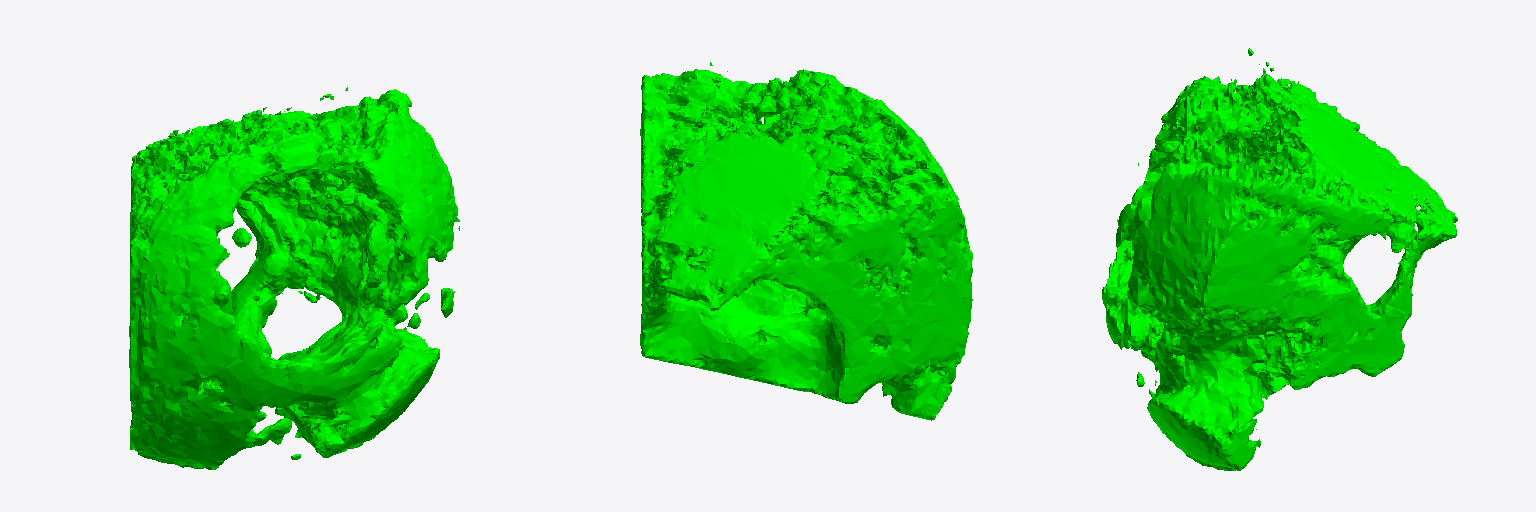
File: B939XXXX-1_base_18.obj
3 views of the same model, side by side, from view 1: azimuth 30°, elevation 25°; view 2: azimuth 150°, elevation 25°; view 3: azimuth 270°, elevation 25° (orthographic).
Parts seen in each view (by area): view 1: 18_base; view 2: 18_base; view 3: 18_base.
Part boxes in pixels (bbox=[...]): 18_base: bbox=[129, 87, 459, 469]; 18_base: bbox=[640, 62, 972, 420]; 18_base: bbox=[1102, 48, 1457, 470].
Size of the model in its own units: 219 by 215 by 205.